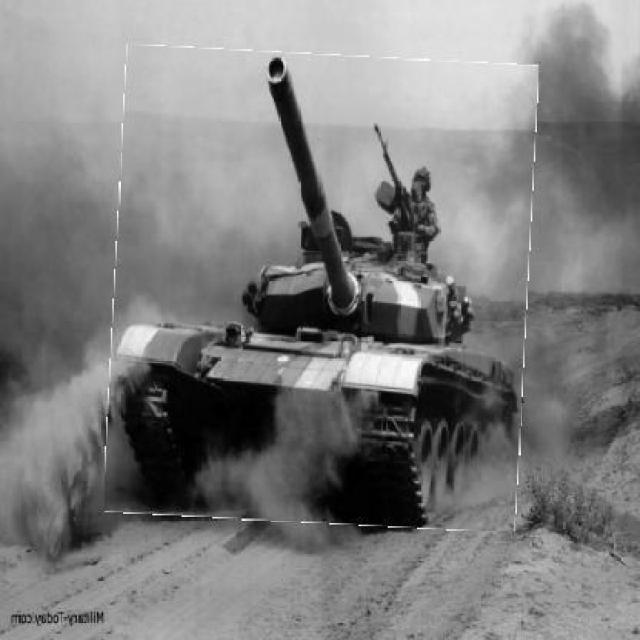Person: (386, 160, 441, 260)
Tank: (111, 52, 534, 529)
